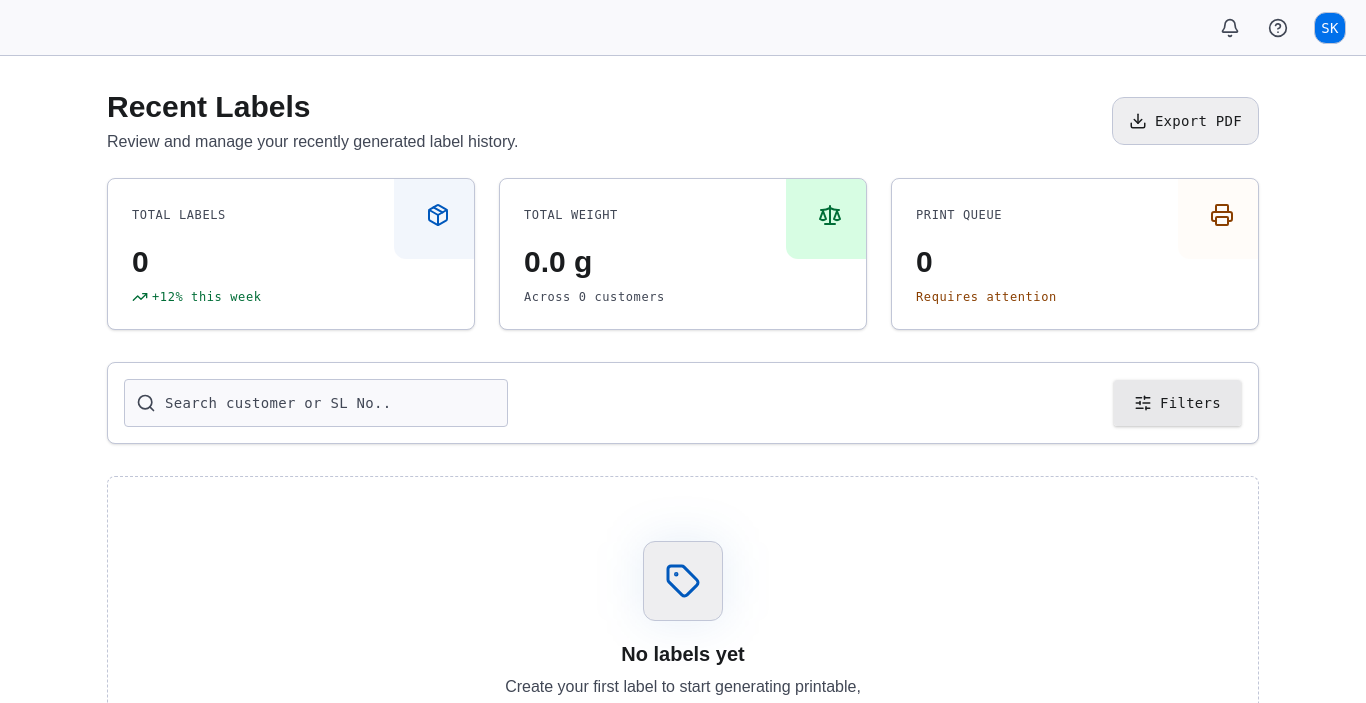
Dashboard filter sheet — presets › applies and toggles the high-weight preset
Click the button "Filters" at (1178, 403), box 1113,379 -> 1242,427
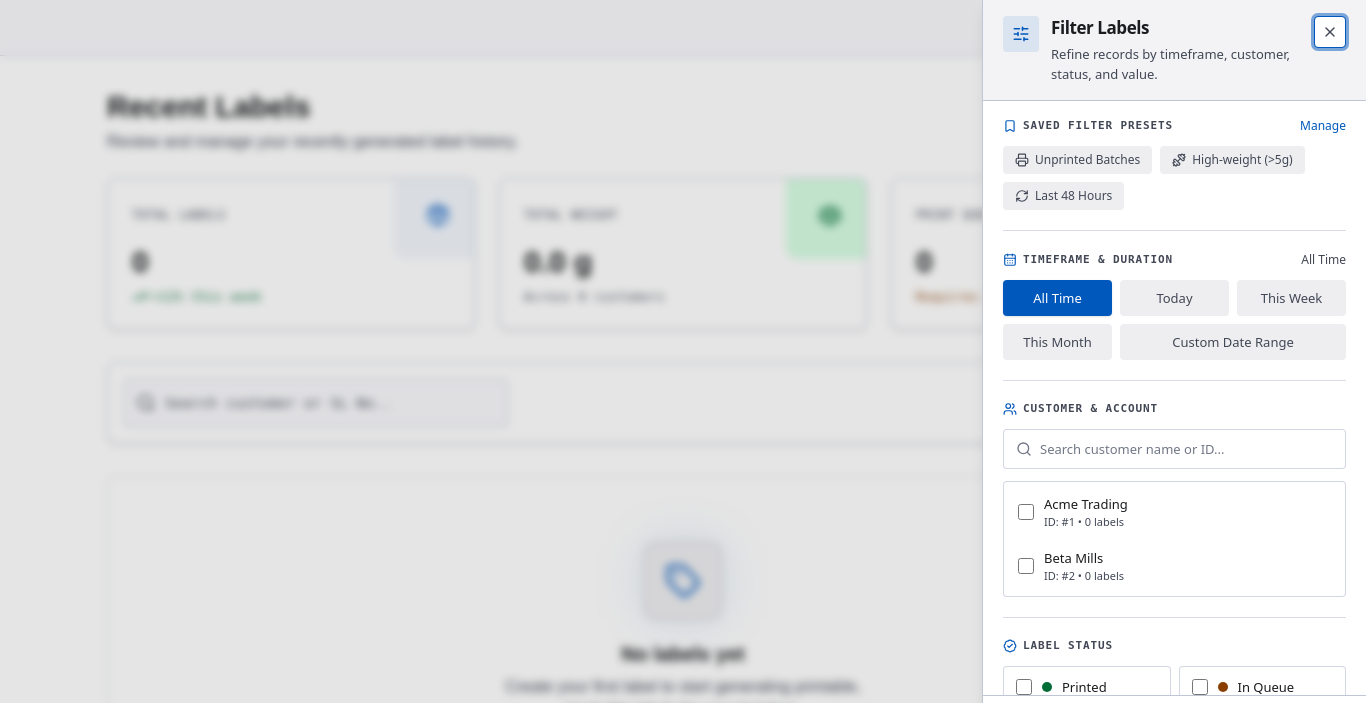
Expected: the heading "Filter Labels" is shown, 1051,16 -> 1149,40
Click the button "High-weight (>5g)" at (1232, 160), box 1160,146 -> 1305,174
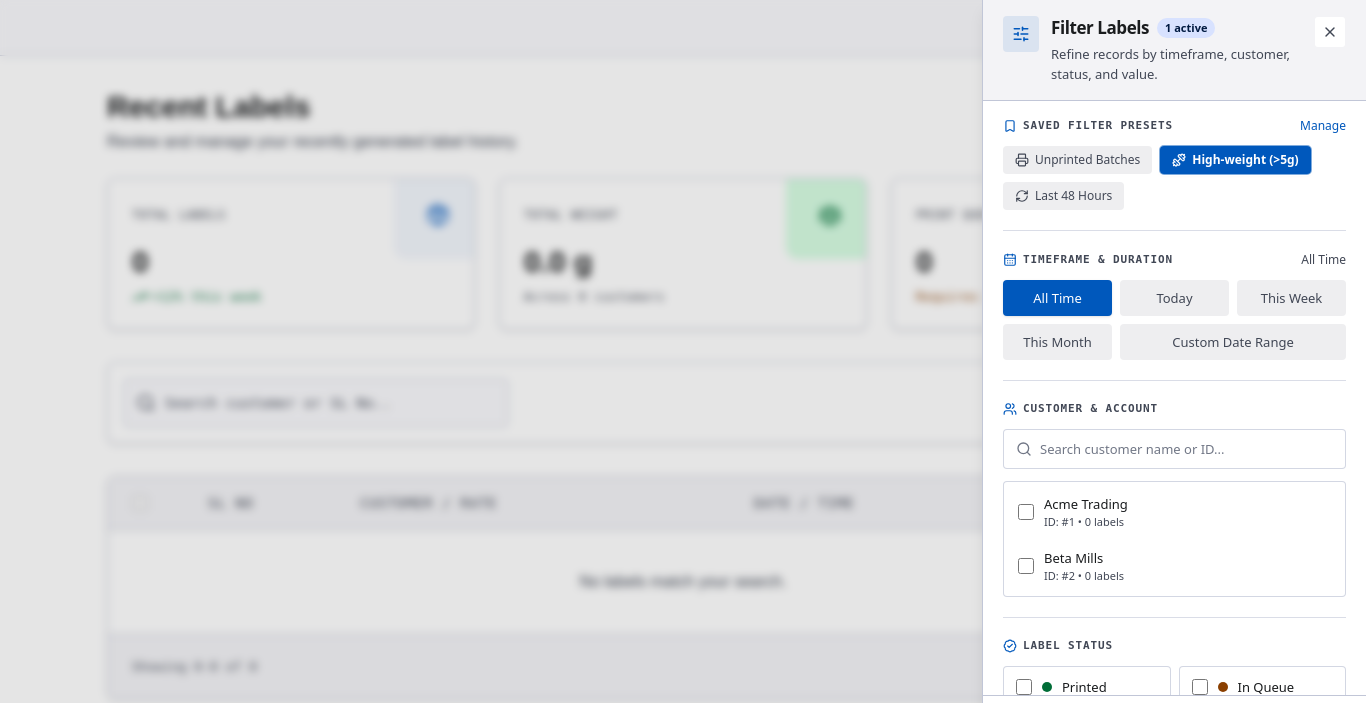
Expected: the text "1 active" is shown, 1157,18 -> 1215,38
Click the button "High-weight (>5g)" at (1235, 160), box 1160,146 -> 1311,174
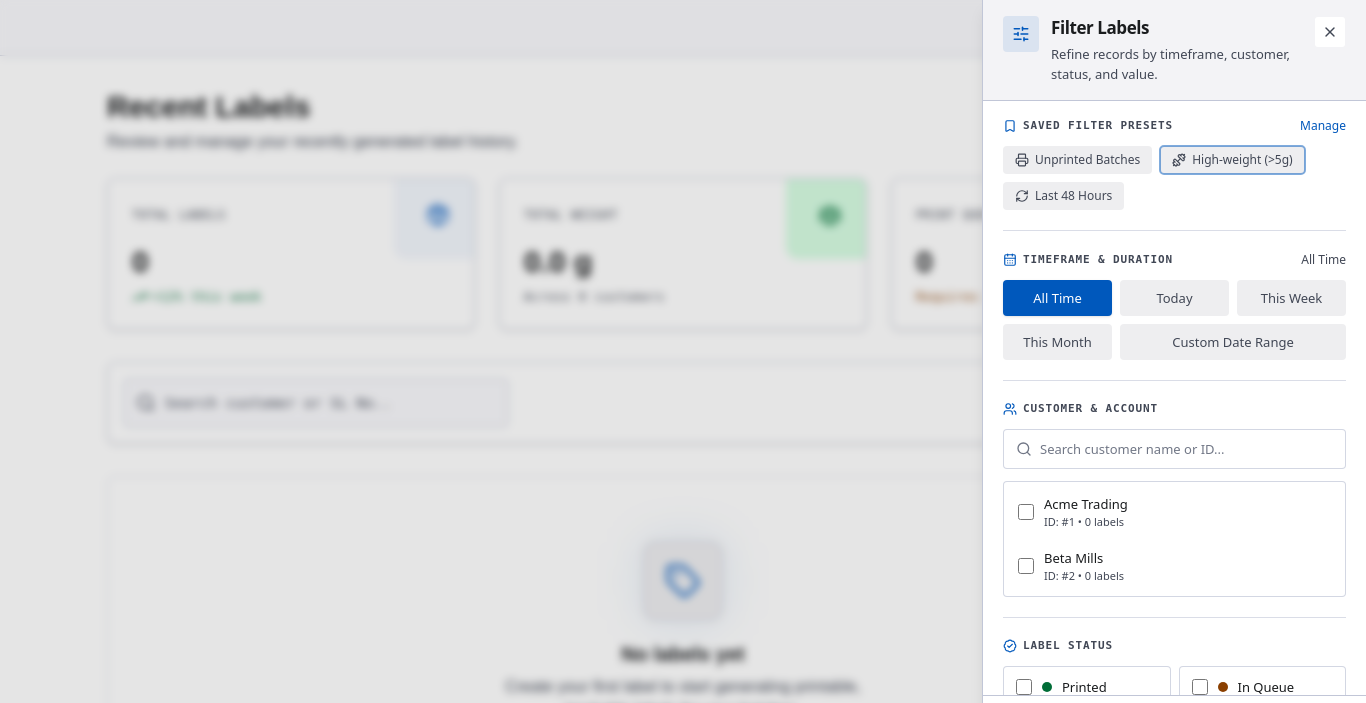
Expected: the text "1 active" is gone
